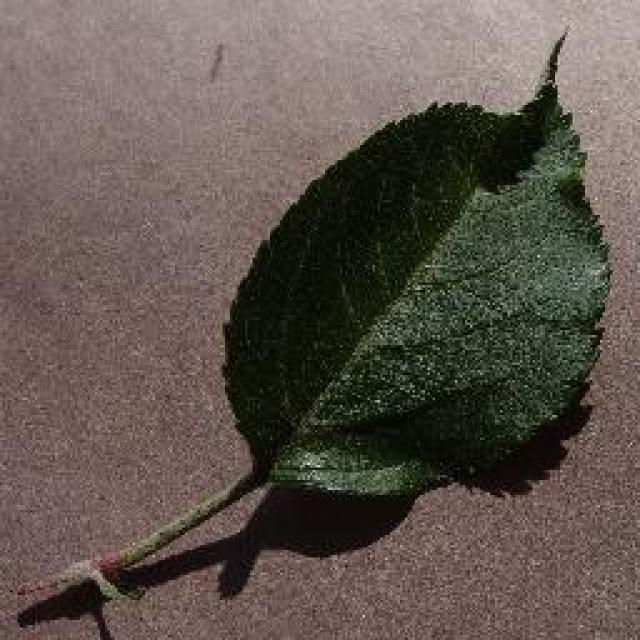apple healthy: (13, 23, 615, 635)
